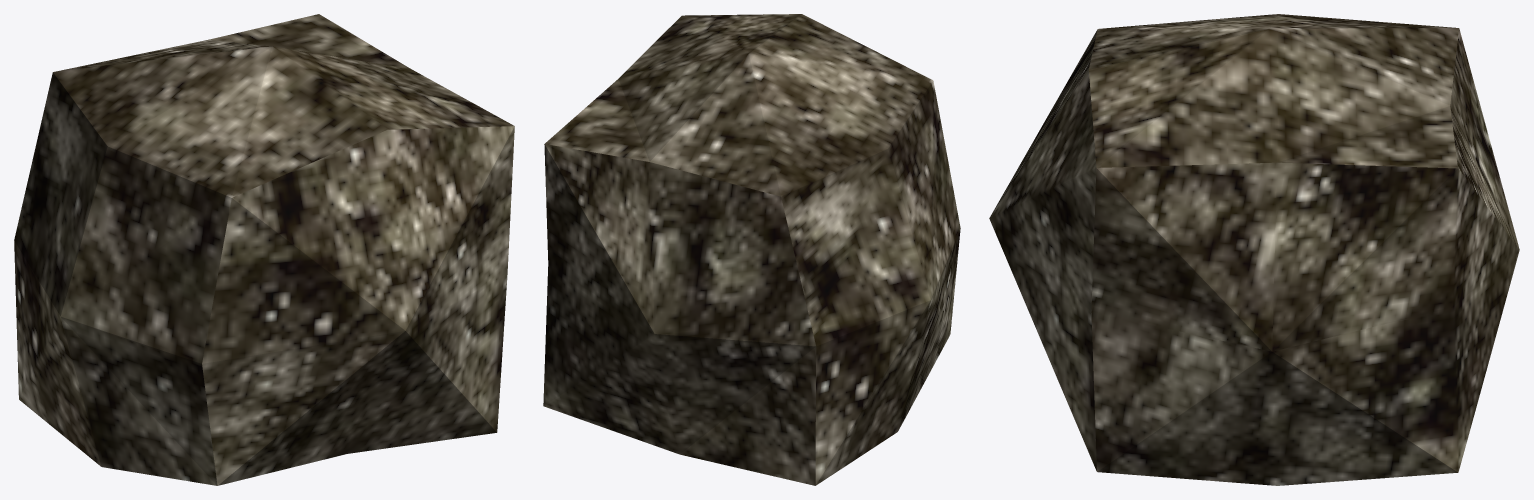
Rendered from choarms_06.glb.
The picture shows the model from 3 angles, left to right: view 1: azimuth 30°, elevation 25°; view 2: azimuth 150°, elevation 25°; view 3: azimuth 270°, elevation 25°; orthographic projection. The views are drawn at different scales.
Parts seen in each view (by area): view 1: model_choarms_06; view 2: model_choarms_06; view 3: model_choarms_06.
Boxes of the visible parts, x1,y1,x2,y2 form: model_choarms_06: (14, 14, 514, 485); model_choarms_06: (543, 14, 960, 485); model_choarms_06: (989, 14, 1519, 485).
Bounding box in the file's own units: 0.7738 × 0.7714 × 0.8592.
Materials: 1 (1 with a texture image).
